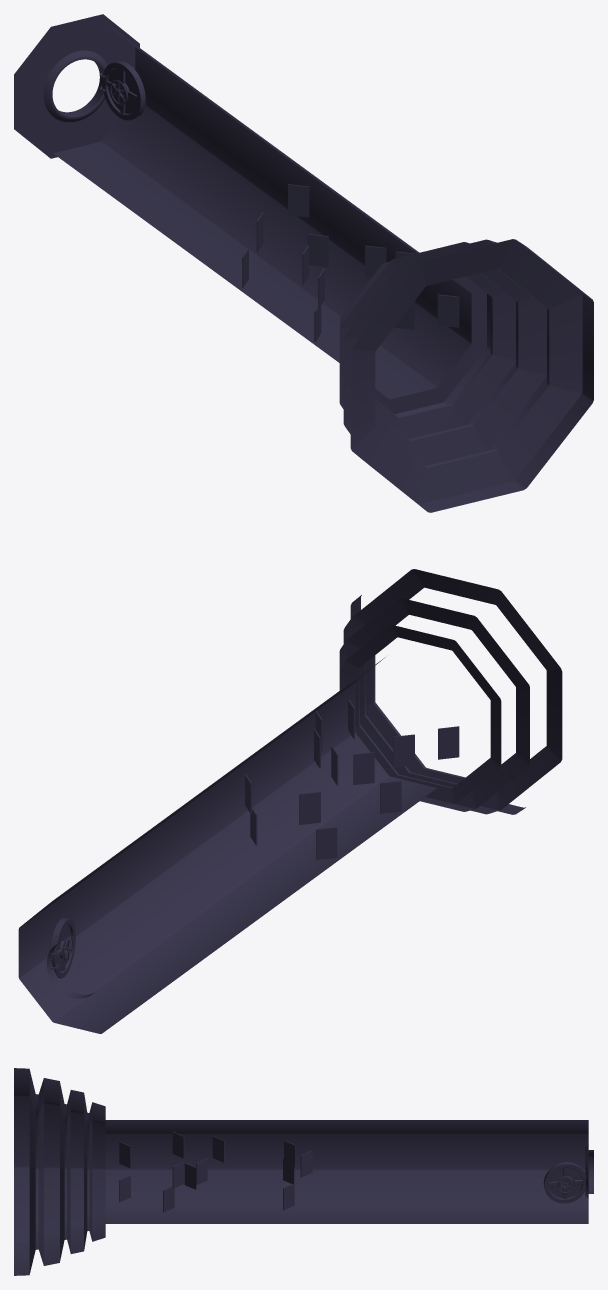
Rendered from 7th_stage.glb.
The picture shows the model from 3 angles, top to bottom: view 1: azimuth 30°, elevation 25°; view 2: azimuth 150°, elevation 25°; view 3: azimuth 270°, elevation 25°; orthographic projection. The views are drawn at different scales.
Visible parts, largest first — view 1: corridor, wall, door, Cube.012, Cube.008, Cube.007; view 2: corridor, door, Cube.005, Cube.003, Cube.001, Cube.002, Cube.004, Cube.006; view 3: corridor, door, wall, Cube.001, Cube.005, Cube.008, Cube.011.
Boxes of the visible parts, x1,y1,x2,y2 form: corridor: (53,22,593,512); wall: (14,14,139,158); door: (100,61,145,120); Cube.012: (437,294,459,327); Cube.008: (288,184,309,217); Cube.007: (307,234,328,267); corridor: (18,569,562,1033); door: (49,918,75,978); Cube.005: (393,734,414,767); Cube.003: (438,726,459,759); Cube.001: (353,752,374,785); Cube.002: (380,780,401,813); Cube.004: (316,827,337,860); Cube.006: (299,791,320,824); corridor: (14,1068,588,1275); door: (543,1162,589,1203); wall: (585,1144,593,1199); Cube.001: (212,1136,224,1162); Cube.005: (172,1131,184,1158); Cube.008: (300,1150,312,1177); Cube.011: (172,1162,184,1188).
Size of the model in its own units: 8 by 8 by 24.02.
